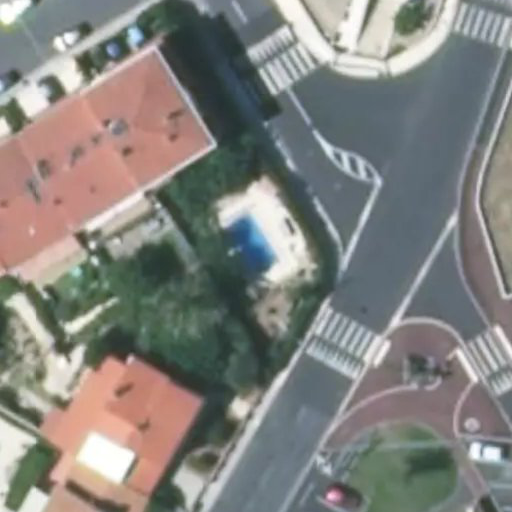pool: (227, 224, 284, 259)
